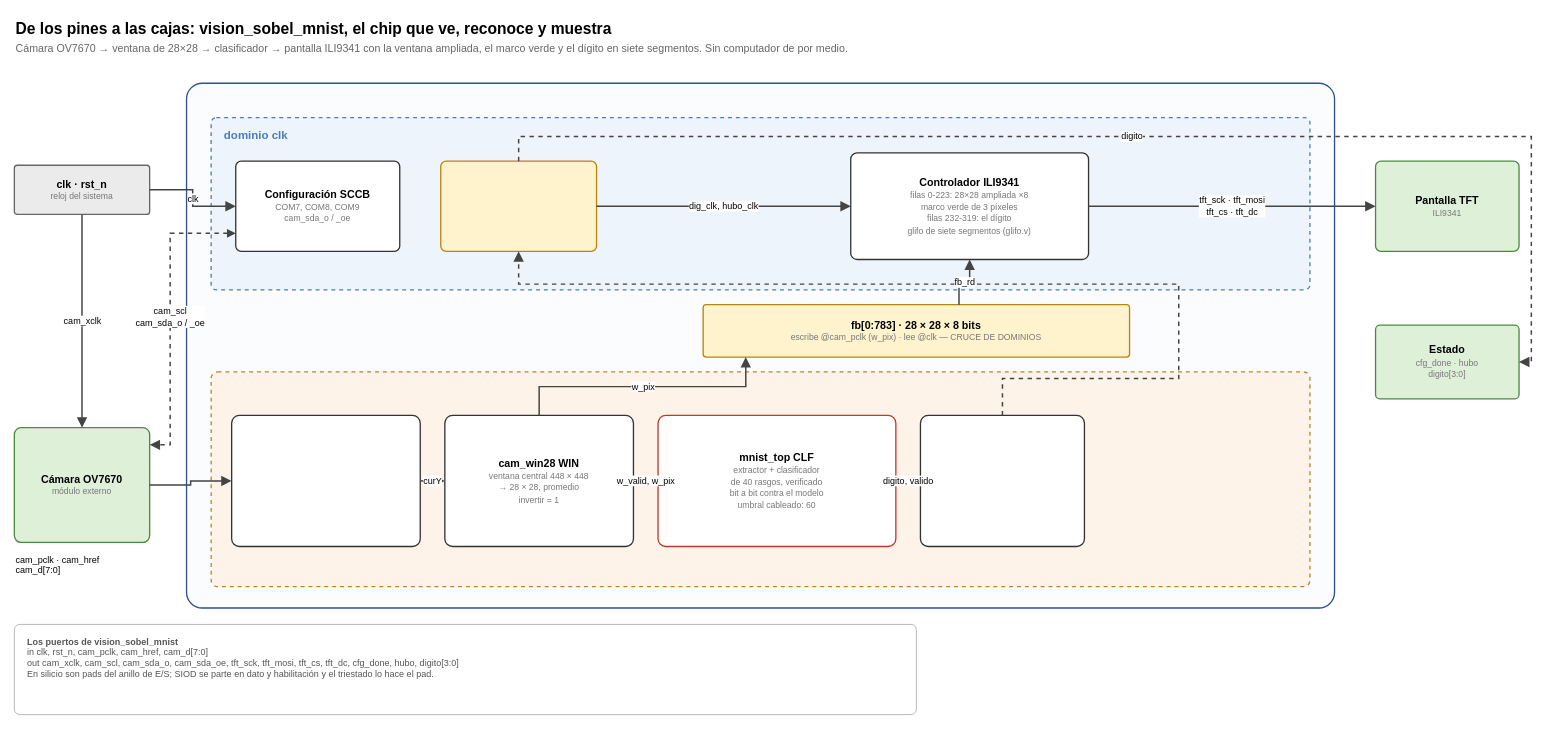
Image size: 1555x729. Some labels were removed from this diagram. Each missing label, with the box of its shape:
Captura de la luma parity: el 2.º byte de U Y V Y curY, py_valid: (231, 414, 420, 547)
dig_pclk · hubo el último veredicto NADA → código 10 (el glifo dibuja una raya): (919, 414, 1085, 547)
dominio cam_pclk: (210, 371, 1310, 587)
module vision_sobel_mnist — vision_sobel_mnist.v: (185, 82, 1335, 608)
Sincronizador dig_s1 → dig_clk hubo_s1 → hubo_clk 2 biestables: (440, 160, 597, 252)
